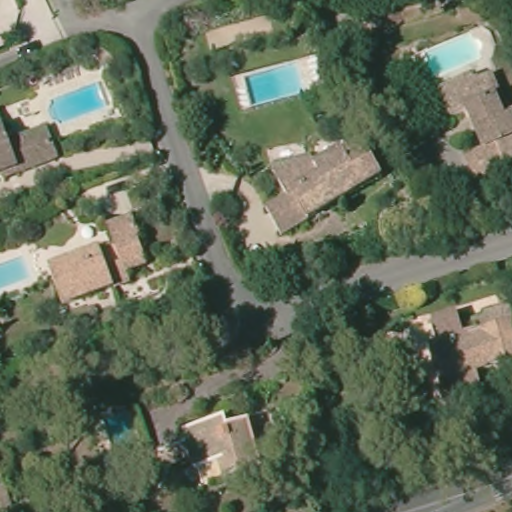pool: (36, 79, 114, 125), (233, 63, 315, 106), (412, 34, 484, 81), (1, 253, 36, 295)
